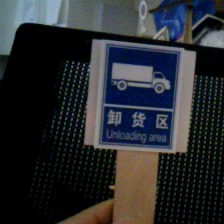unload: (91, 41, 186, 156)
